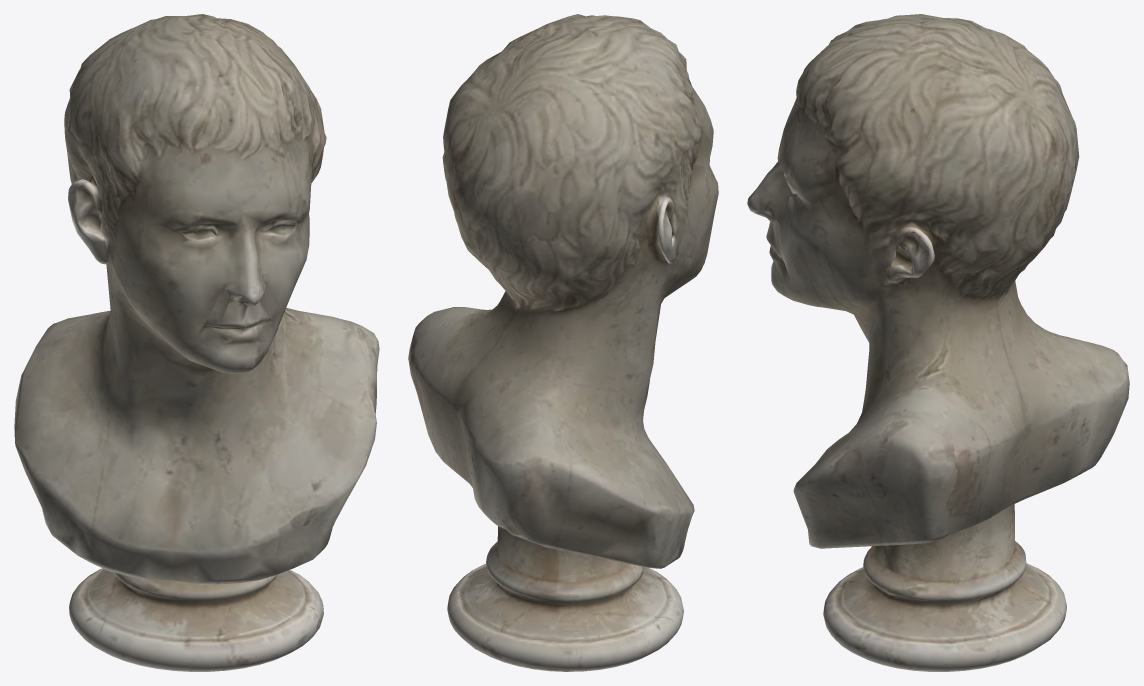
File: decor_bust_t1_marble.glb
The picture shows the model from 3 angles, left to right: view 1: azimuth 30°, elevation 25°; view 2: azimuth 150°, elevation 25°; view 3: azimuth 270°, elevation 25°; orthographic projection. The views are drawn at different scales.
Visible parts, largest first — view 1: marble_bust_01; view 2: marble_bust_01; view 3: marble_bust_01.
Boxes of the visible parts, x1,y1,x2,y2 form: marble_bust_01: [14, 14, 379, 671]; marble_bust_01: [408, 14, 718, 671]; marble_bust_01: [747, 14, 1129, 671].
Bounding box in the file's own units: 0.4222 × 0.8 × 0.4656.
1 material, 1 textured.
